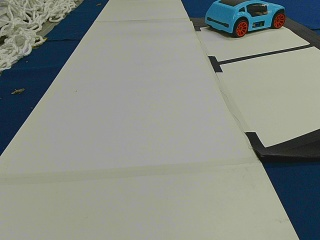car: (205, 1, 285, 35)
